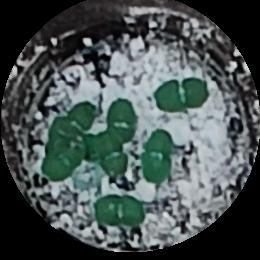Basil: (94, 194, 149, 226), (156, 79, 208, 111), (55, 98, 97, 136), (46, 137, 82, 181), (106, 100, 137, 142), (144, 132, 170, 182), (99, 134, 127, 176)
